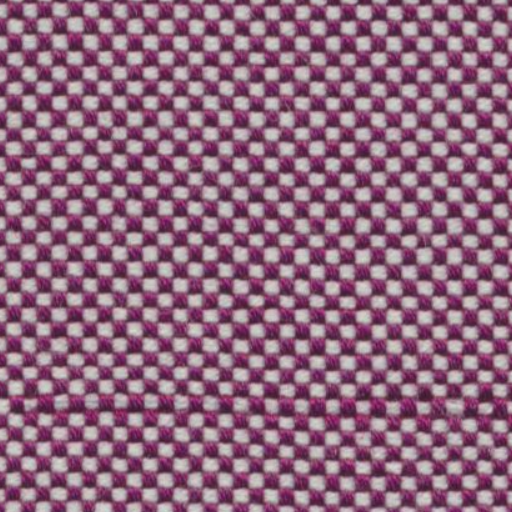TuoSha: (12, 374, 500, 443)
